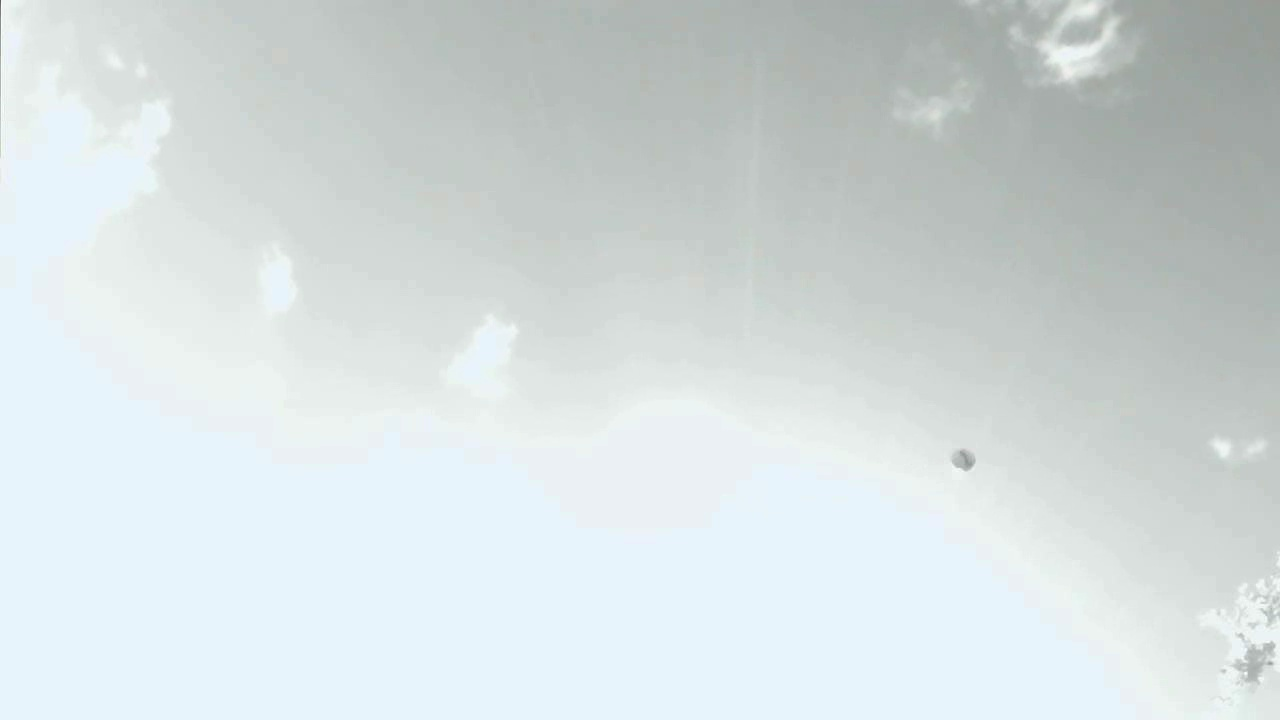Football-Spotter: (952, 449, 975, 470)
